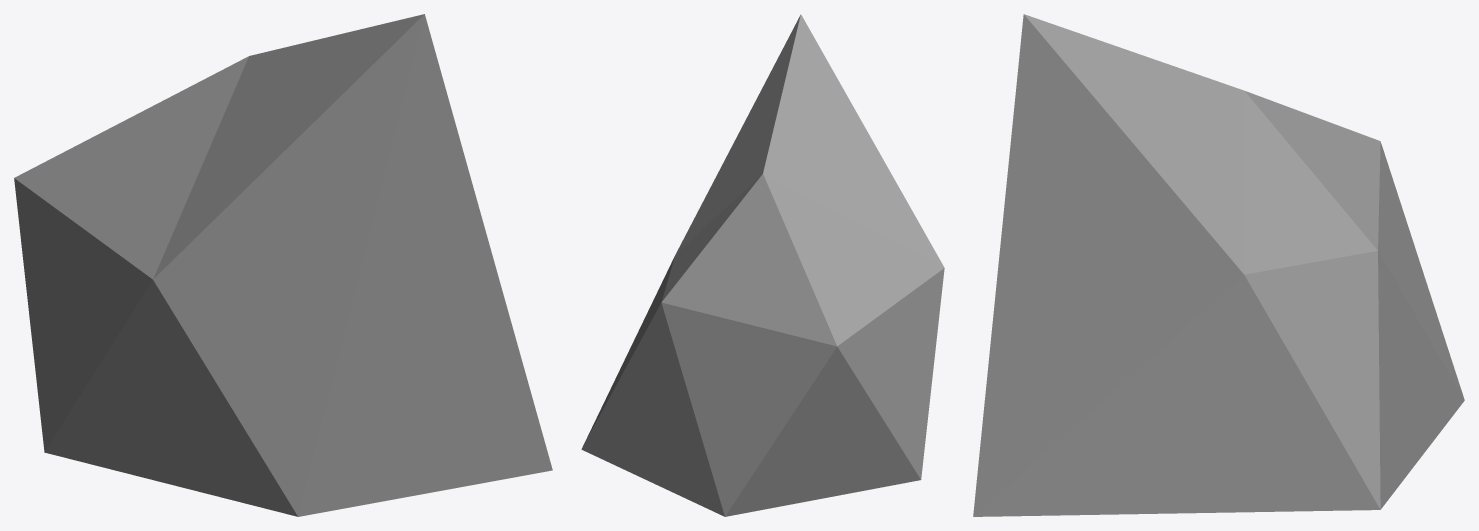
File: Rock4.fbx
The picture shows the model from 3 angles, left to right: view 1: azimuth 30°, elevation 25°; view 2: azimuth 150°, elevation 25°; view 3: azimuth 270°, elevation 25°; orthographic projection. The views are drawn at different scales.
Visible parts, largest first — view 1: Icosphere.002; view 2: Icosphere.002; view 3: Icosphere.002.
Part boxes in pixels (x1,y1,x2,y2): Icosphere.002: (14,14,552,516); Icosphere.002: (581,14,944,516); Icosphere.002: (973,14,1464,516).
Bounding box in the file's own units: 162 × 197 × 190.
